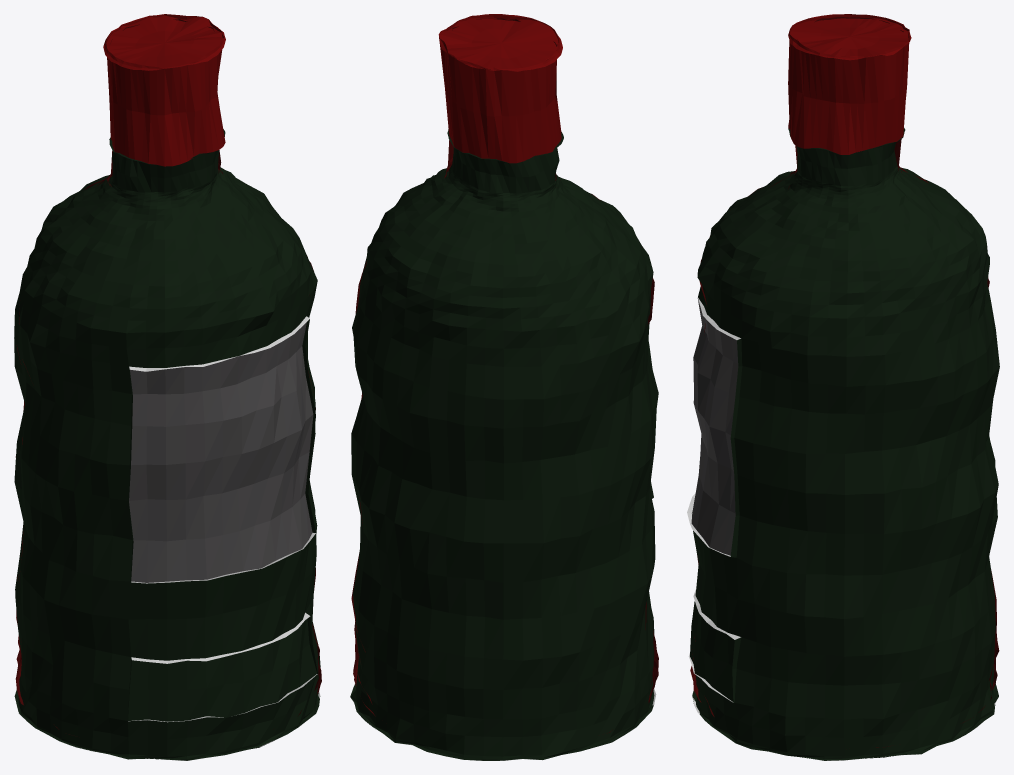
The model's file is crush_medium_1.obj.
The picture shows the model from 3 angles, left to right: view 1: azimuth 30°, elevation 25°; view 2: azimuth 150°, elevation 25°; view 3: azimuth 270°, elevation 25°; orthographic projection.
Visible parts, largest first — view 1: model; view 2: model; view 3: model.
Boxes of the visible parts, box(x1,y1,x2,y2) form: model: box(14, 14, 321, 760); model: box(350, 14, 658, 760); model: box(687, 14, 999, 760).
Bounding box in the file's own units: 0.0671 × 0.157 × 0.0667.
1 material, 1 textured.
